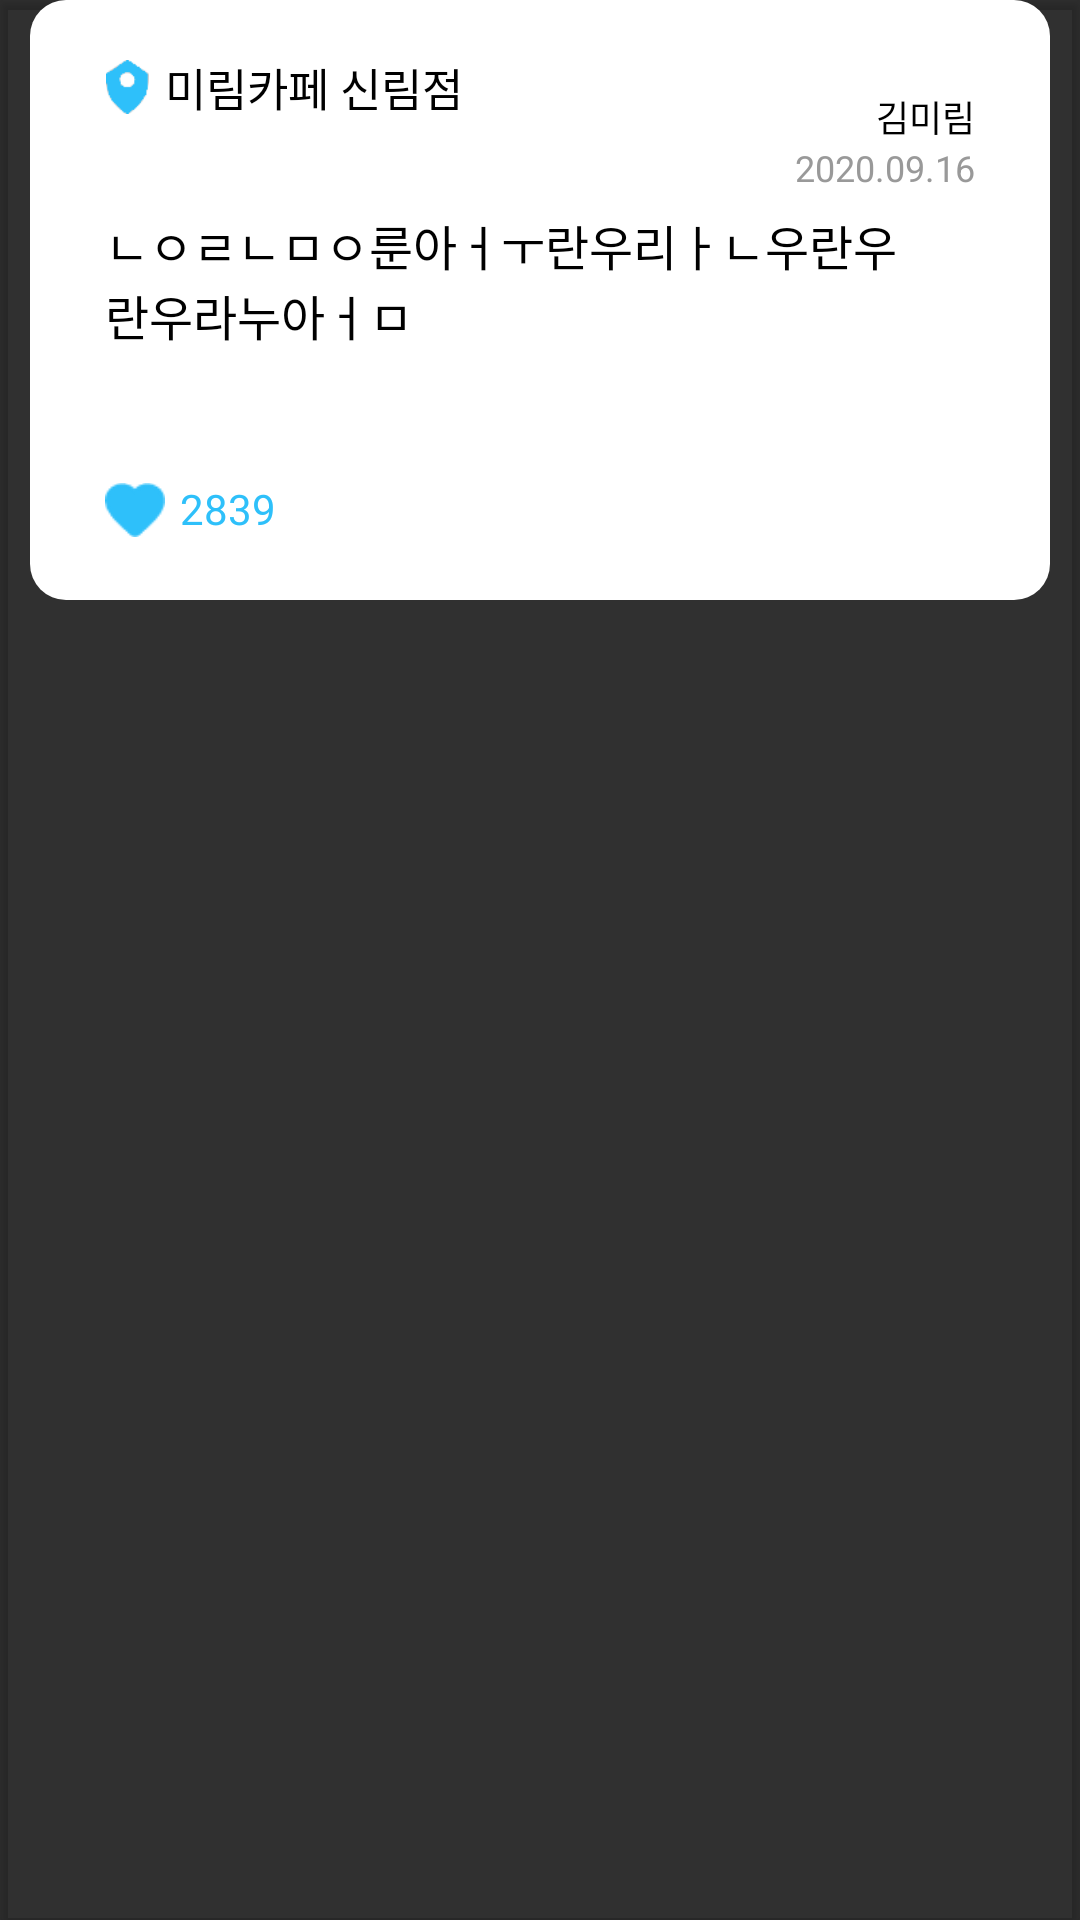

Icons on this 1080px×1920px Android screen, each with the point to tap as [x,y]:
heart: [135,510]
